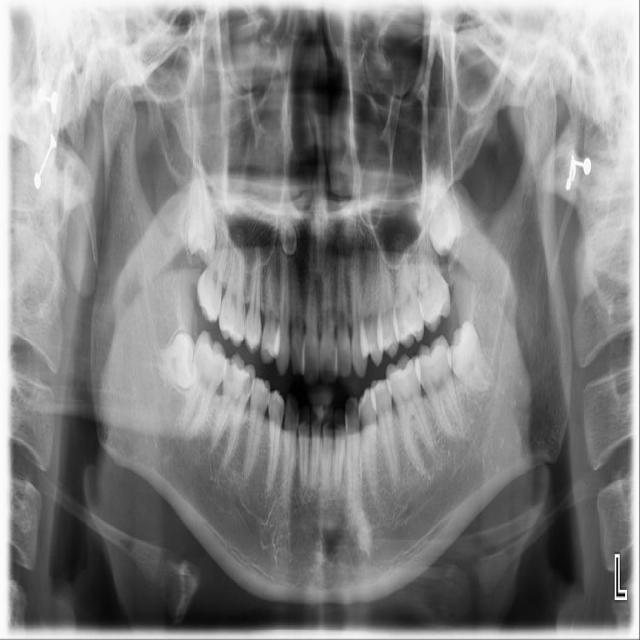Caries: (242, 366, 255, 399), (224, 358, 235, 385), (277, 401, 284, 423)
impacted tooth: (423, 157, 463, 252), (450, 320, 502, 391), (183, 158, 216, 255), (149, 335, 195, 390)
